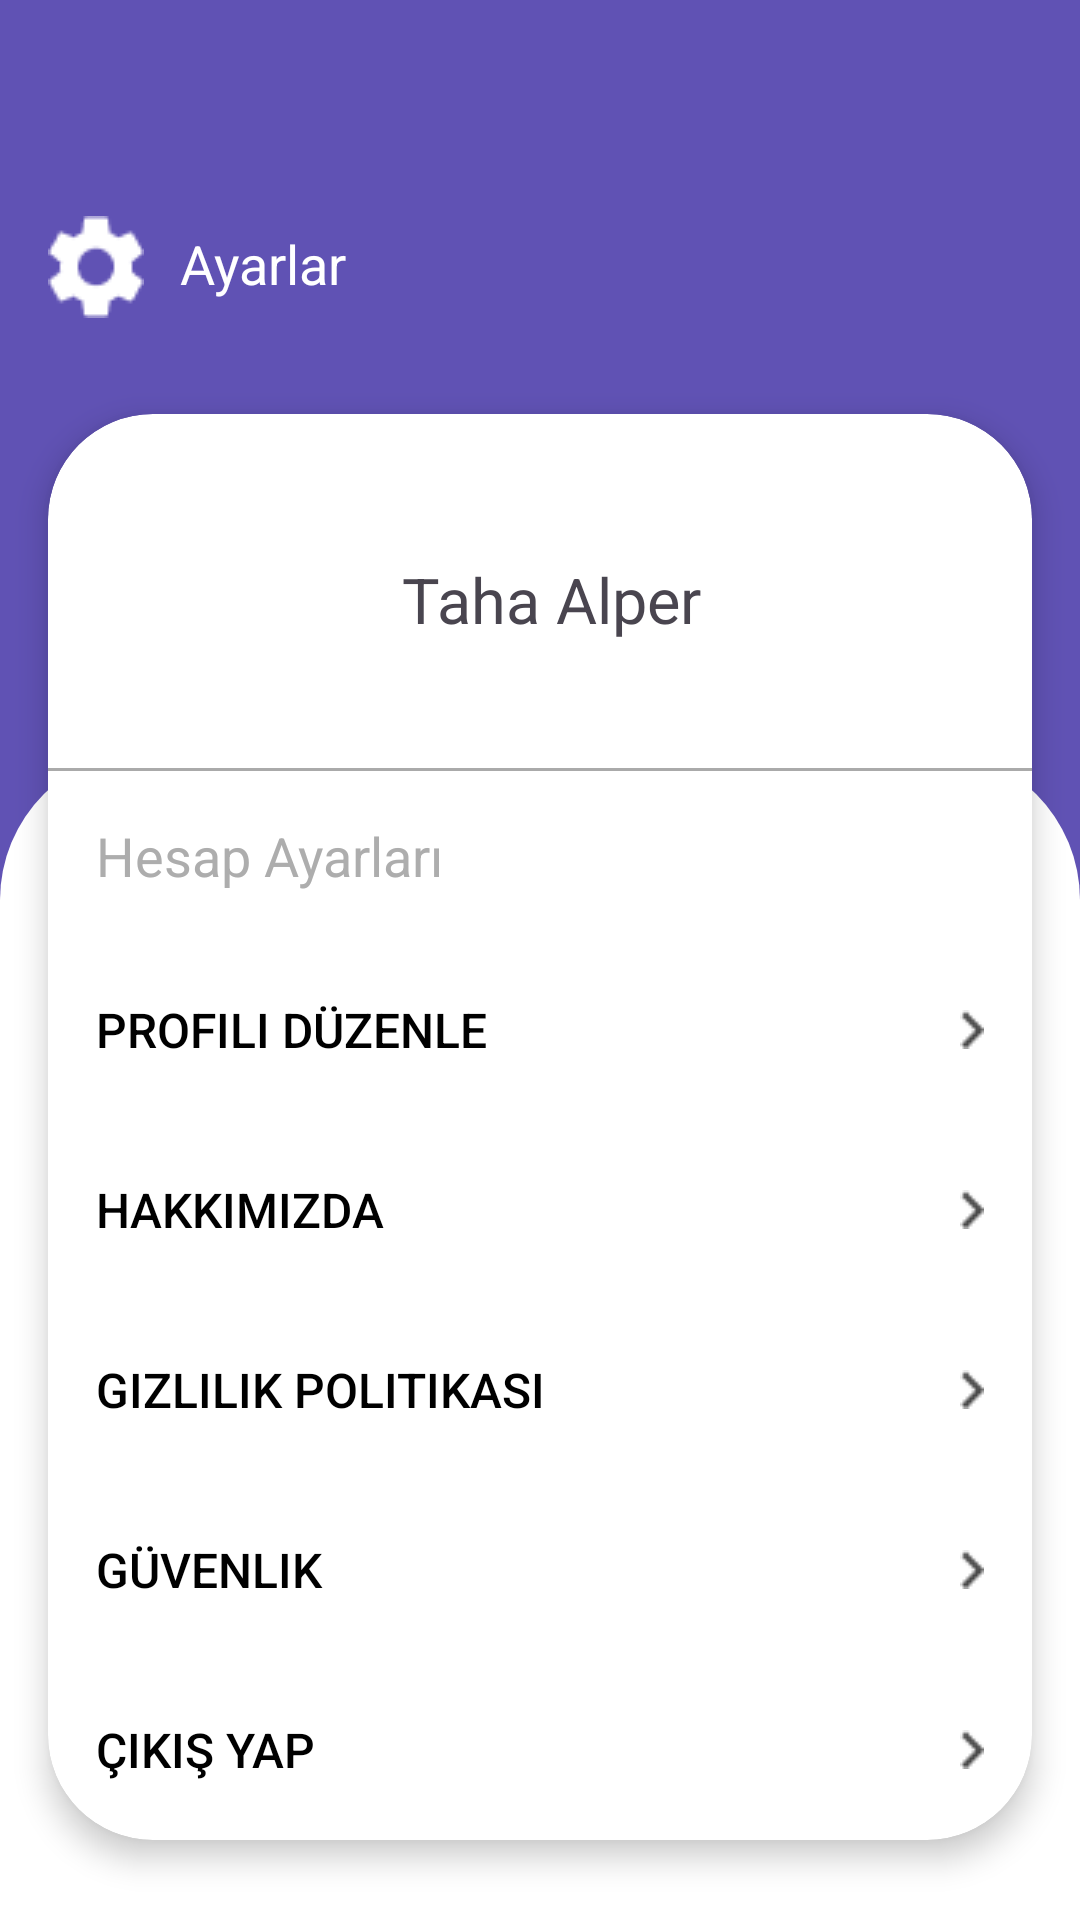

Where to tap for icons on this 1080 × 1920 app screen, as (x,y):
settings: (96,267)
